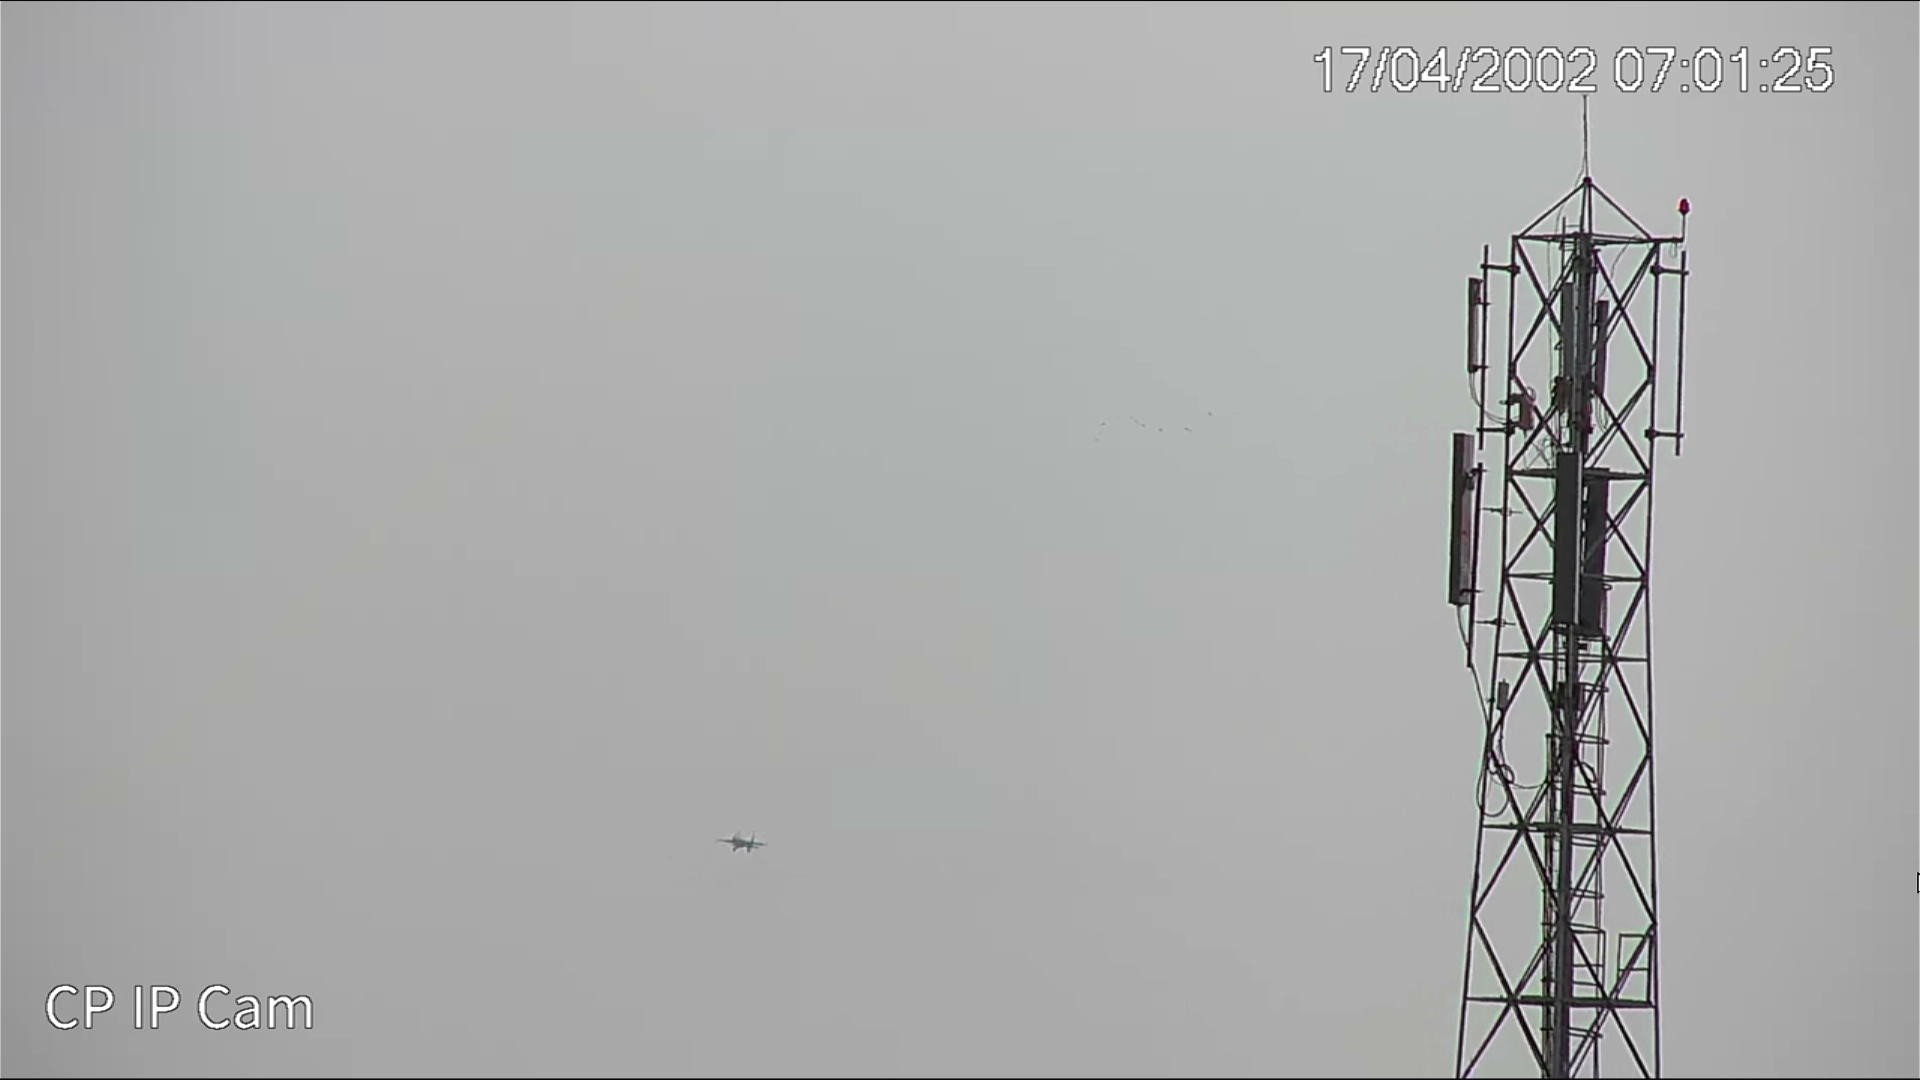SU_30: (717, 832, 769, 856)
